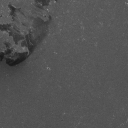corrosion: (1, 1, 58, 67), (46, 66, 52, 72)
